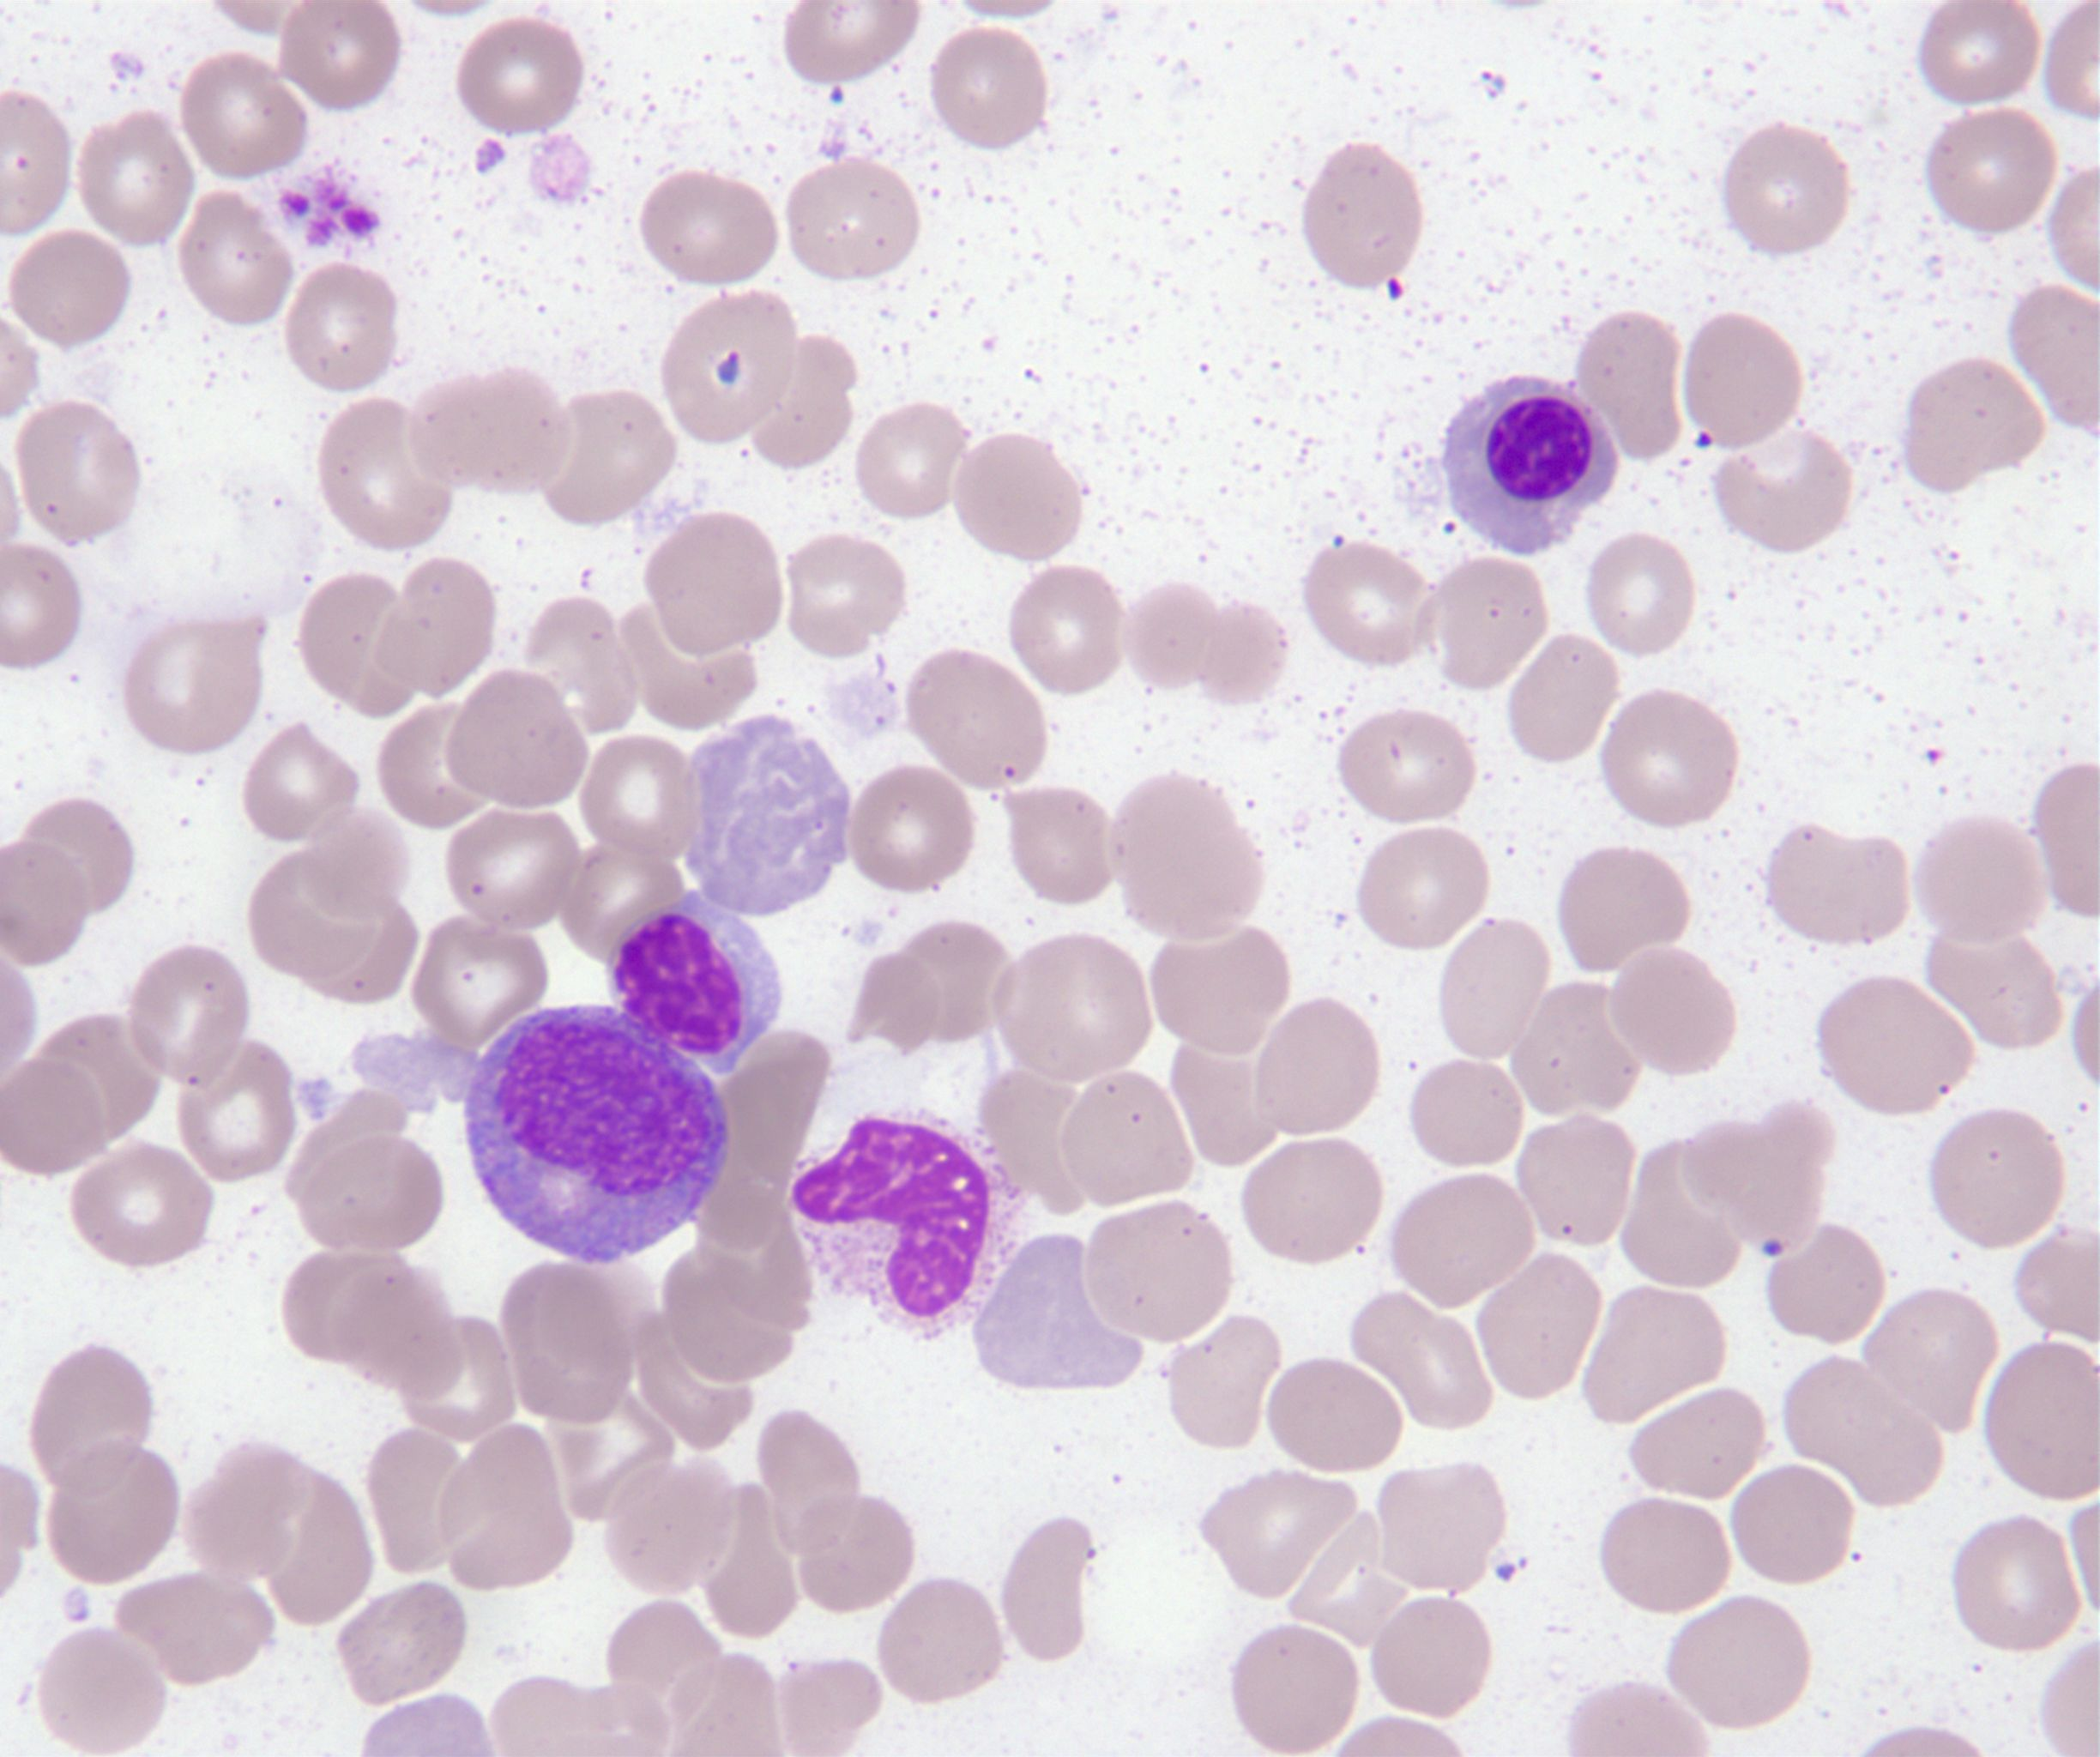24: (1444, 377, 1617, 557), (612, 890, 781, 1073)
3: (469, 1008, 726, 1261)
x: (788, 1110, 1019, 1338)
